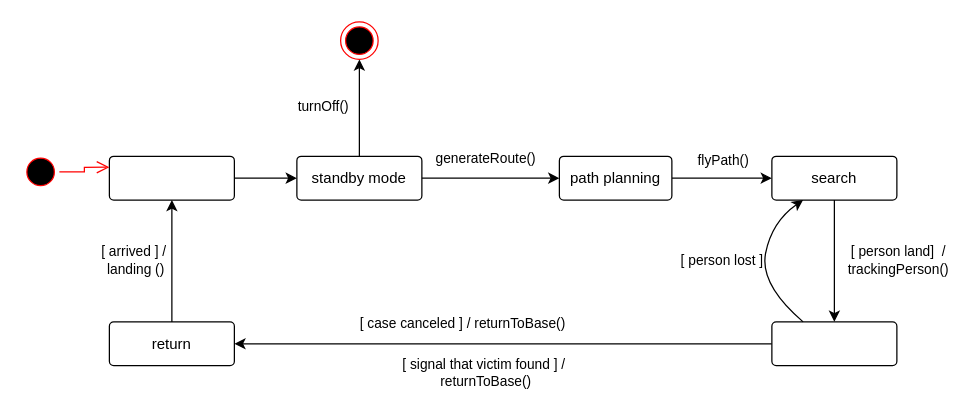
Image size: 970x411. Some labels were removed from this diagram. The shapes that lost their labels are listed below. From the top down, each one's centre as x and y in pixels, then its label:
the point at 171,177: on drone-pad
the point at 834,343: on track
